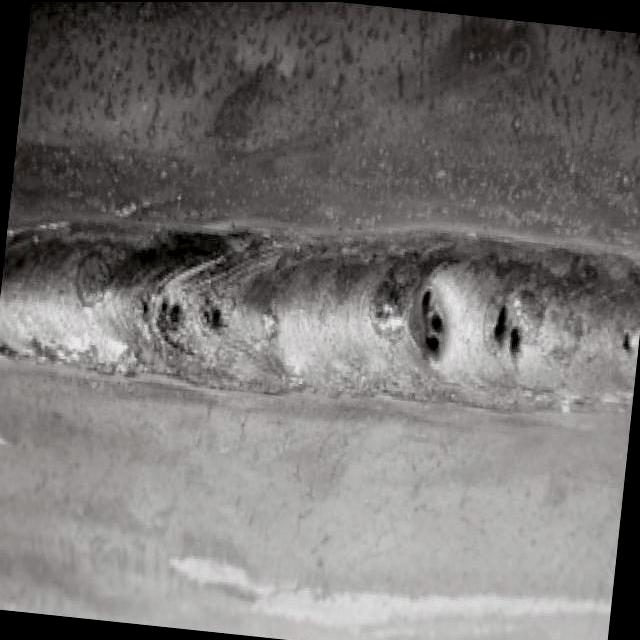defect: (406, 265, 452, 372), (485, 284, 529, 376), (135, 280, 187, 353), (198, 285, 232, 344), (616, 318, 639, 355)
